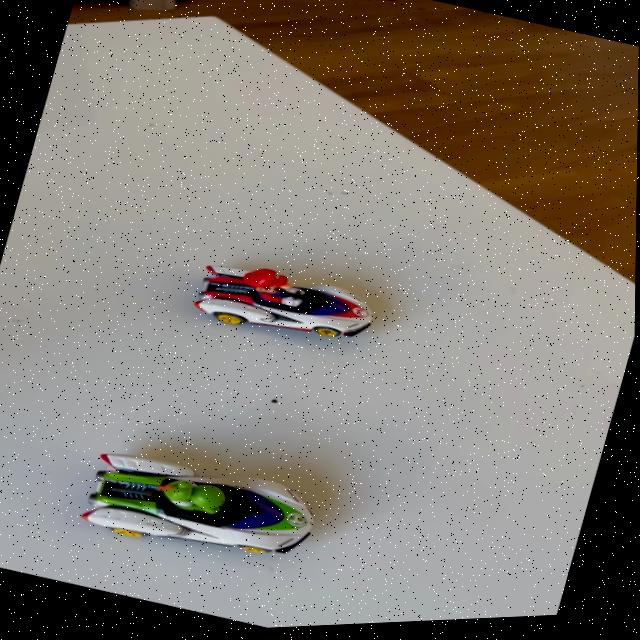mario: (171, 234, 407, 378)
yoshi: (62, 410, 347, 595)
